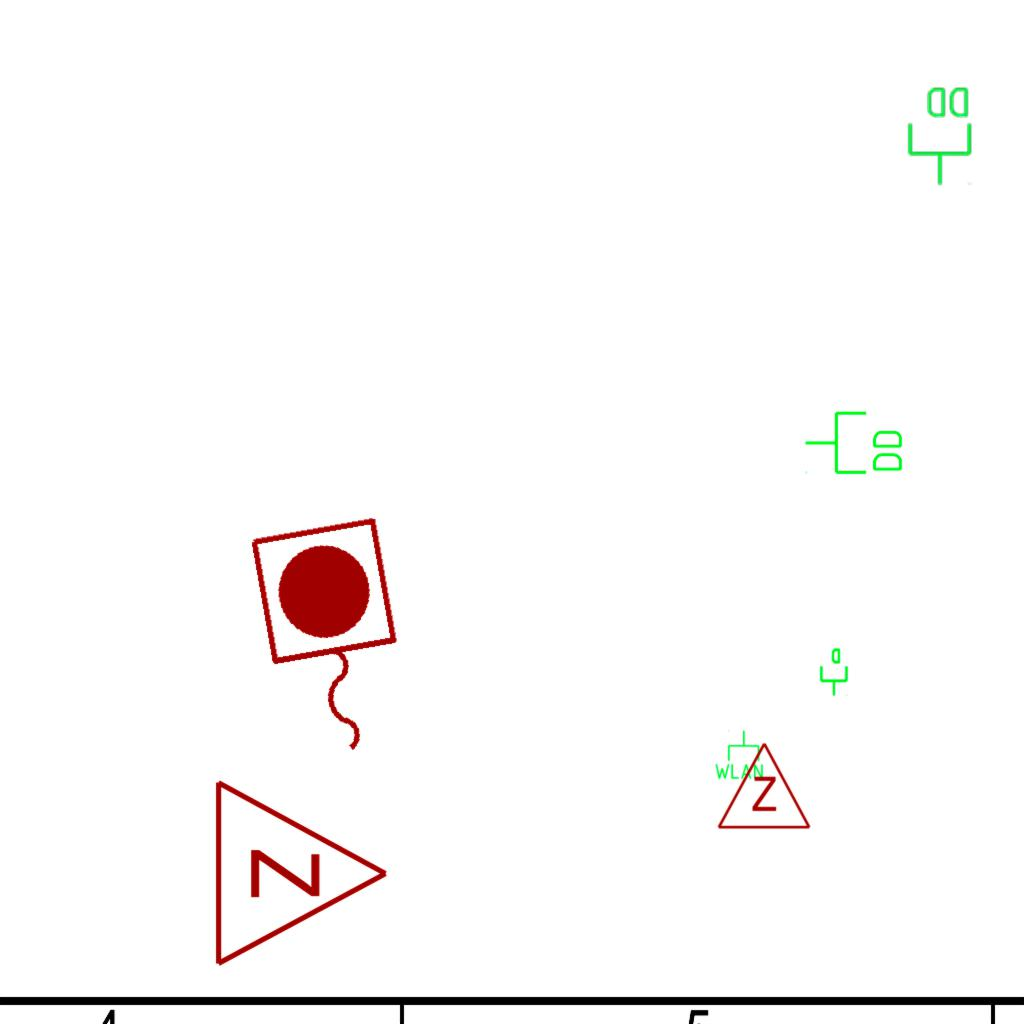Datenanschluss_einfach: (816, 647, 850, 697)
Datenanschluss_zweifach: (803, 409, 906, 478), (906, 84, 975, 187)
WLAN: (713, 729, 765, 781)
Zimmersignalleuchte: (201, 773, 401, 969), (714, 736, 812, 836)
Zugtaster: (238, 508, 424, 774)
